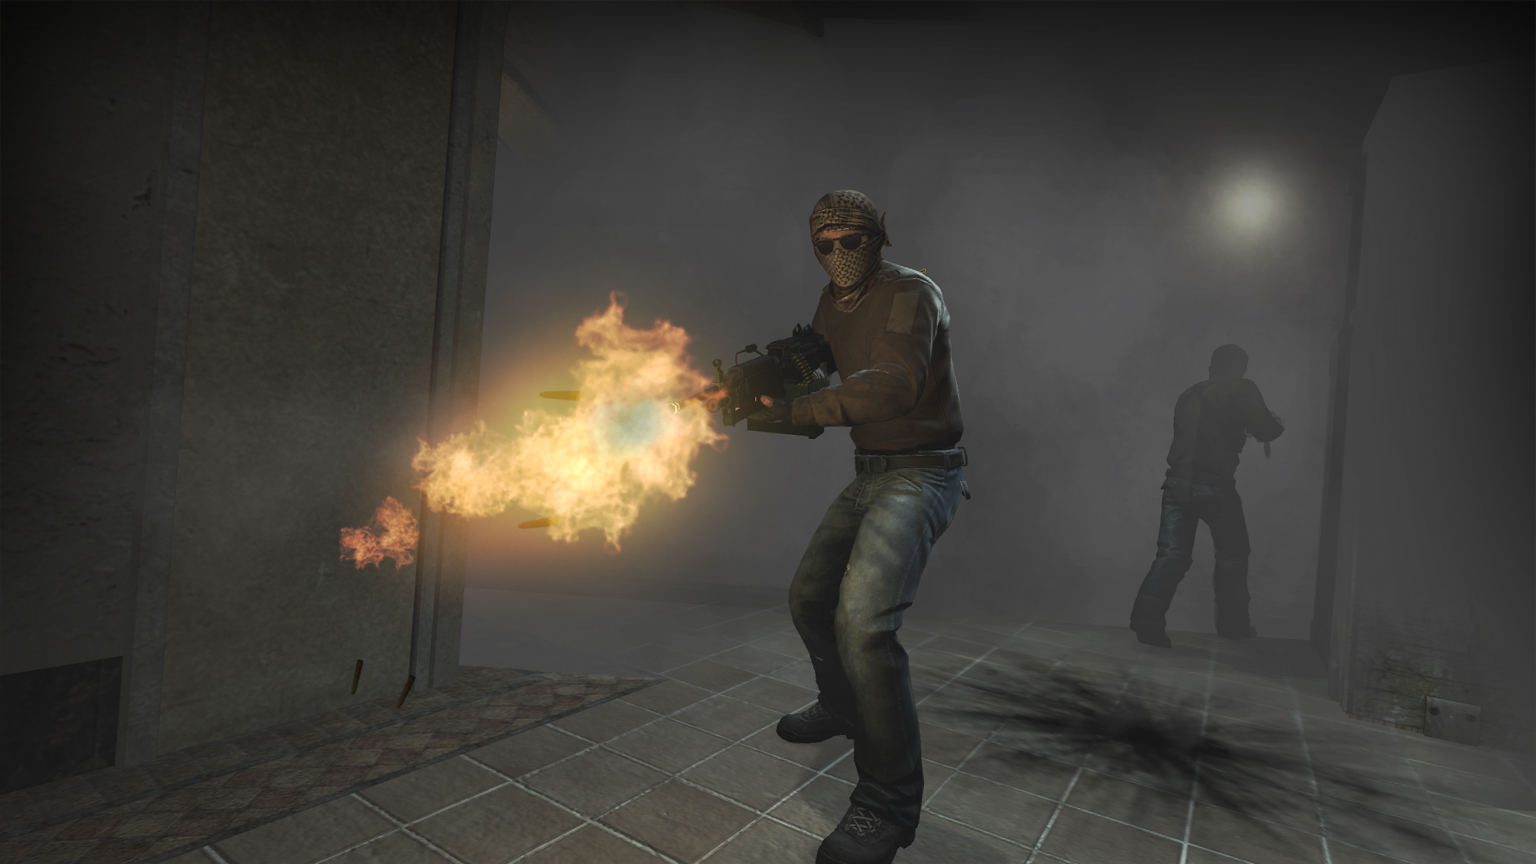t: (715, 189, 964, 864), (1129, 339, 1268, 645)
th: (810, 185, 886, 293), (1201, 342, 1259, 389)
